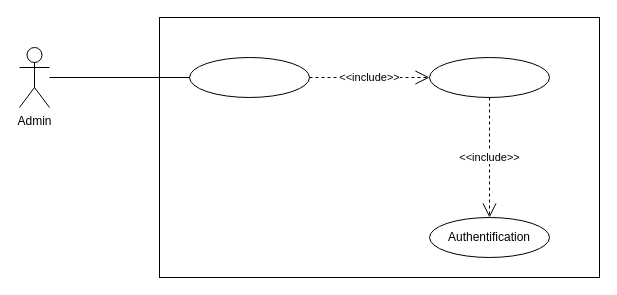
Some shapes in this 617 by 295 pixel diagram are drawn without their labels. Each missing label, with the box of its shape:
access to admin interface: (428, 56, 550, 98)
add a post: (188, 56, 310, 98)
